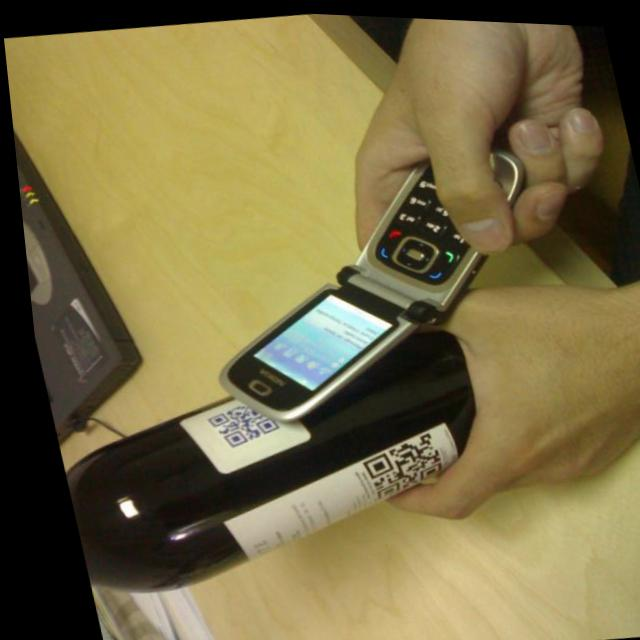qrcode: (348, 426, 439, 500), (195, 397, 275, 450)
